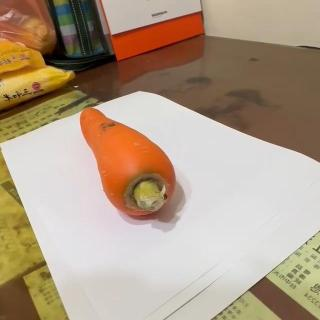carrot: (79, 106, 177, 218)
